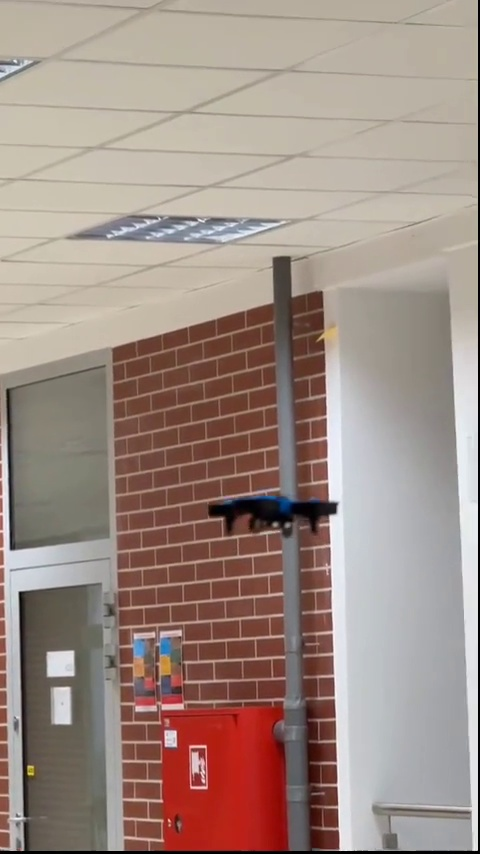drone: (211, 498, 342, 537)
